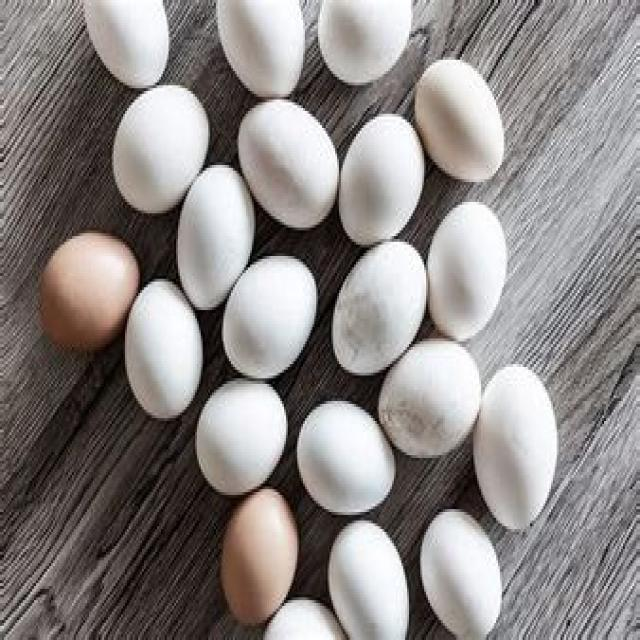Egg: (232, 73, 344, 244), (468, 362, 566, 550), (99, 61, 212, 222), (112, 258, 214, 429), (334, 228, 436, 392), (376, 324, 485, 471), (336, 96, 428, 262), (425, 189, 513, 359), (293, 394, 402, 531), (216, 260, 328, 392), (175, 156, 258, 320), (414, 54, 516, 180), (419, 507, 514, 640), (190, 384, 296, 499), (320, 516, 414, 638), (74, 0, 180, 97)
